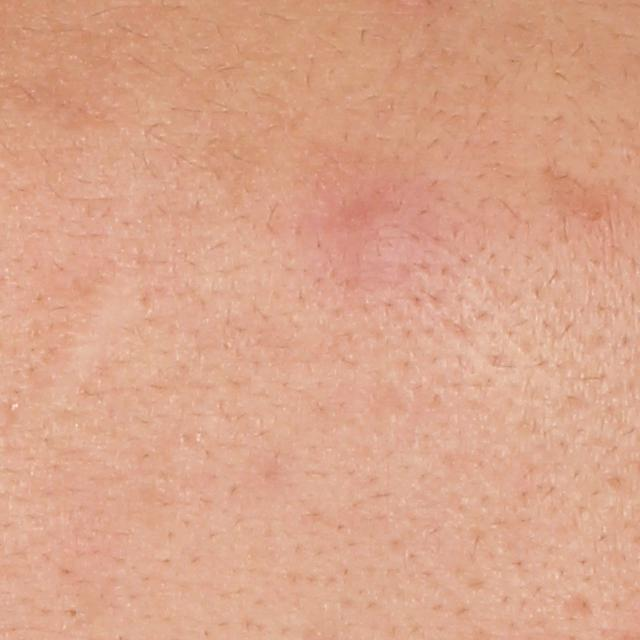atrophic_scar: (561, 591, 595, 622)
comedo: (64, 605, 85, 623)
